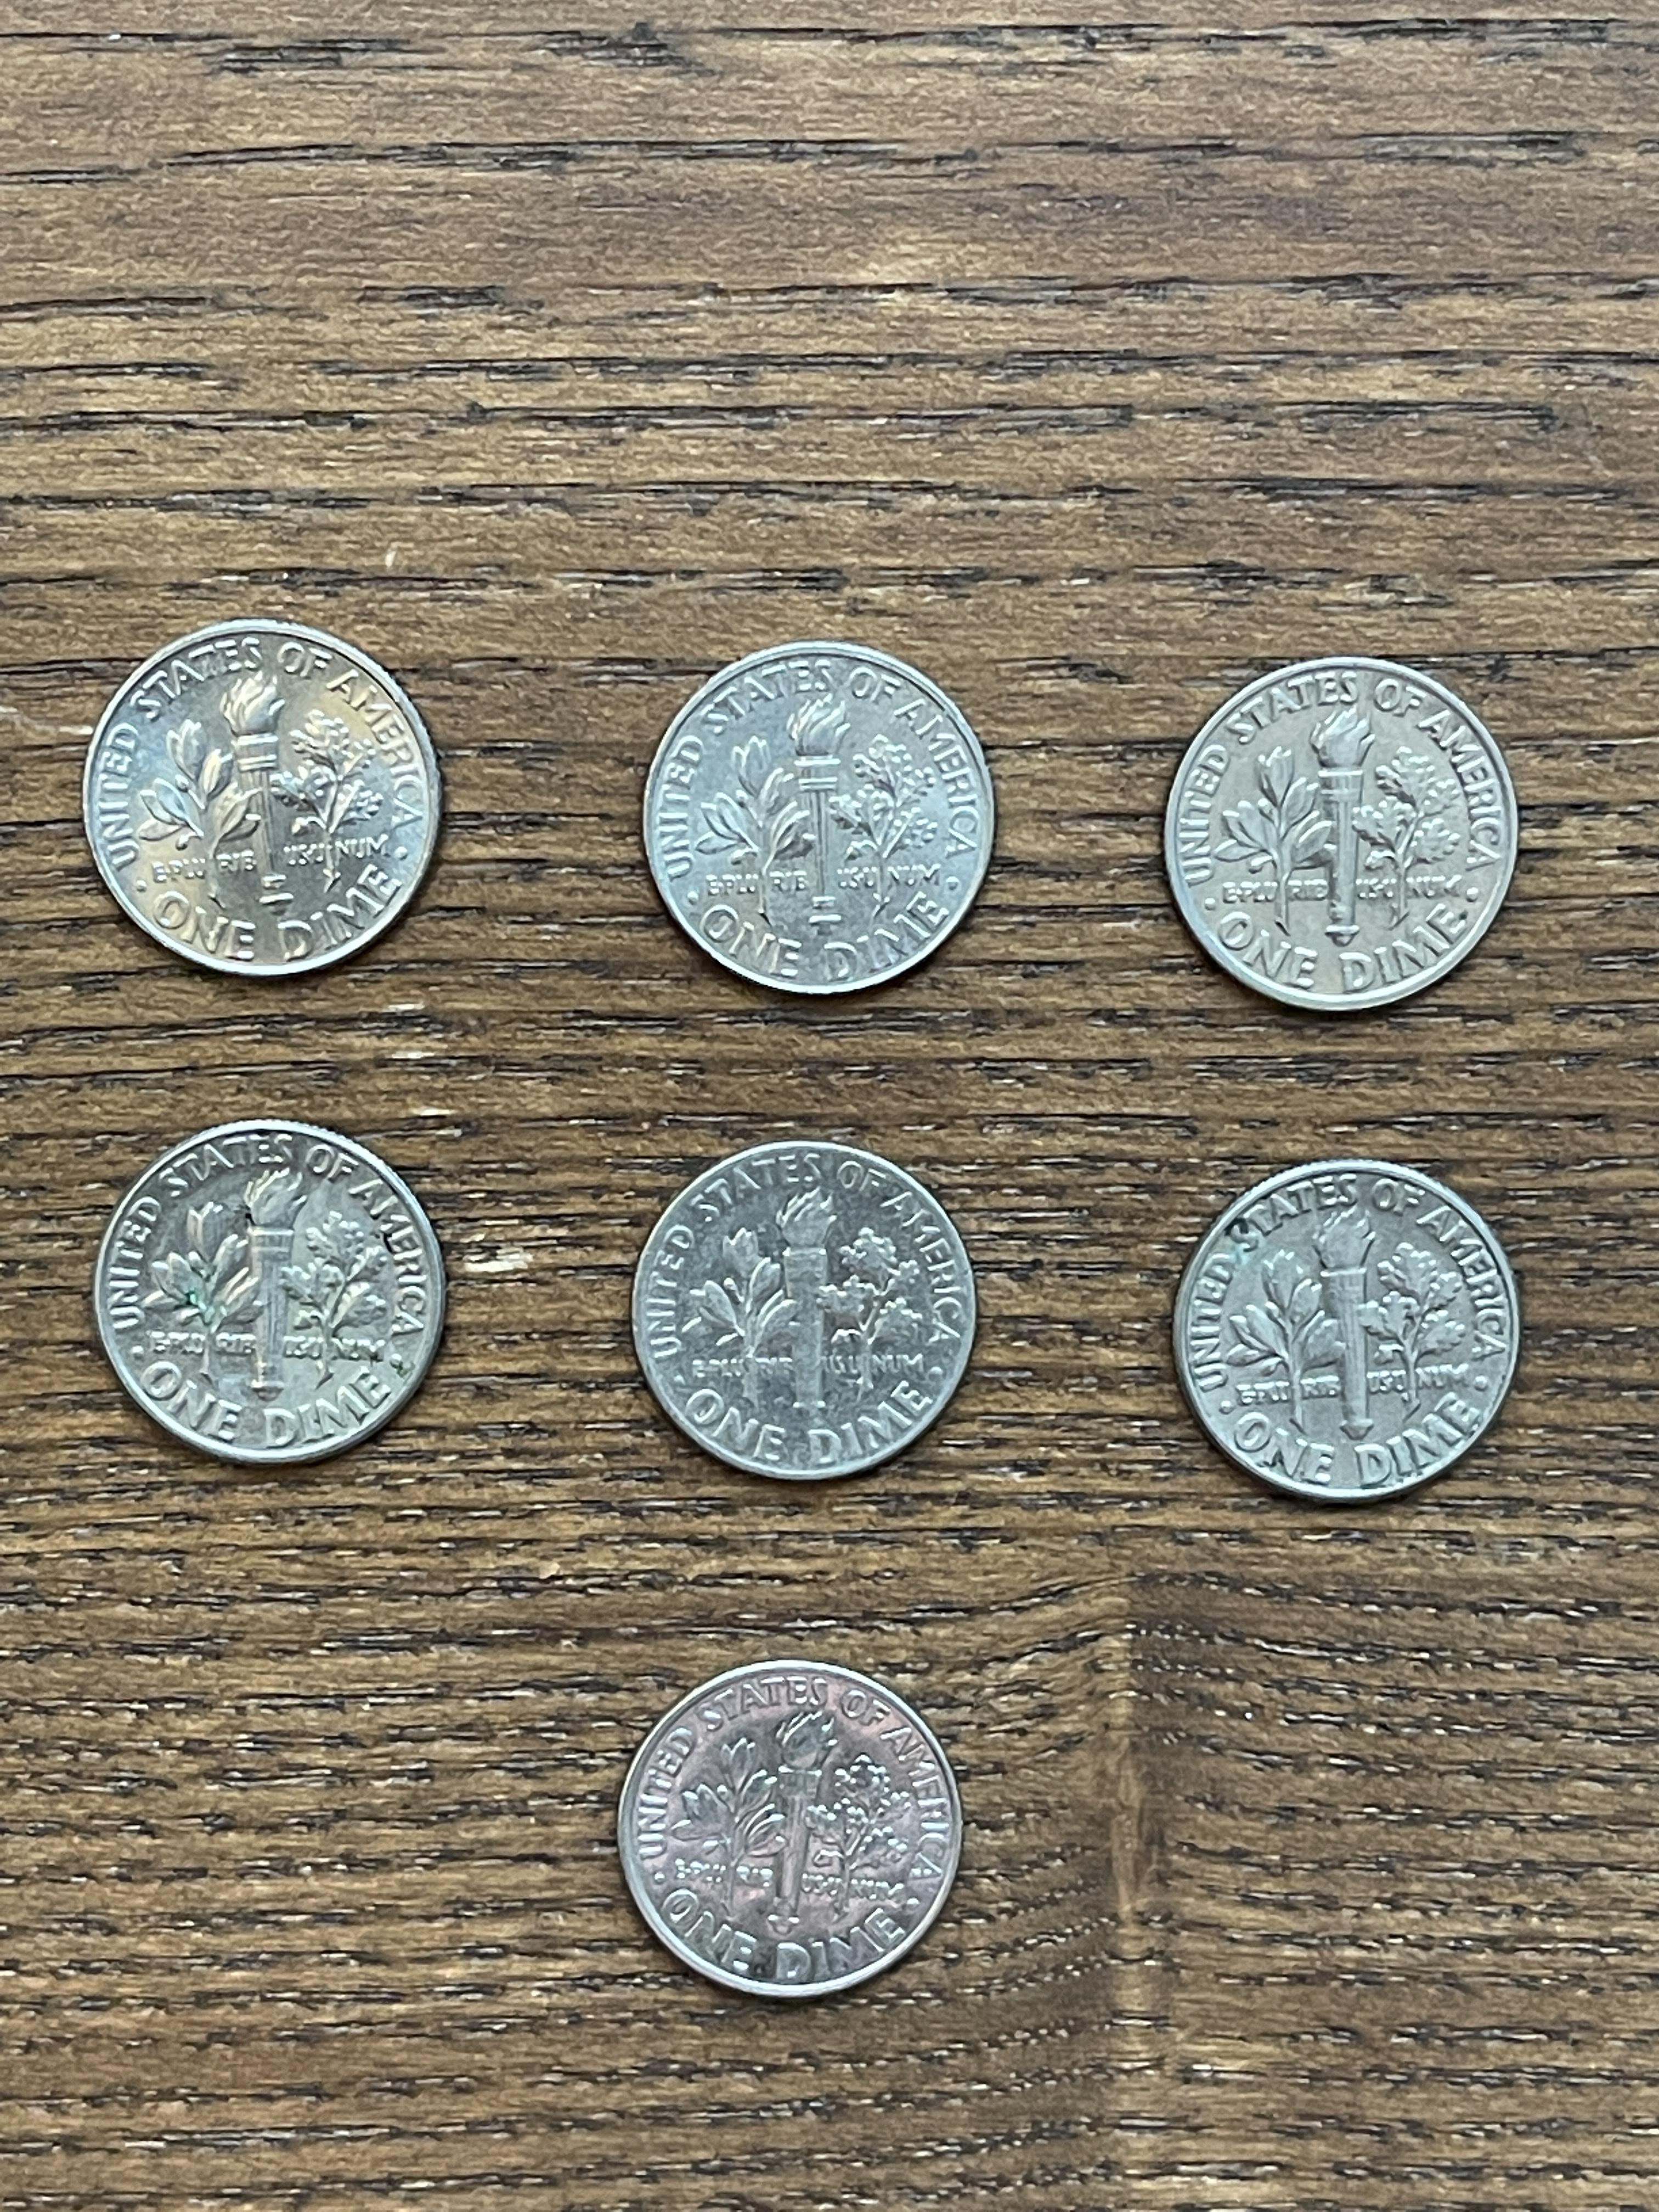Dime: (77, 613, 450, 979), (1161, 653, 1527, 1014), (638, 637, 999, 1000), (89, 1115, 457, 1470), (1161, 1153, 1528, 1508), (626, 1137, 983, 1486), (613, 1656, 969, 2001)
